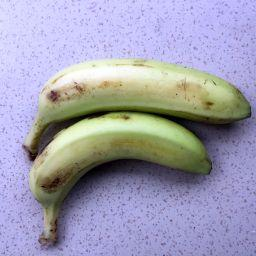Banana Ripe: (29, 59, 256, 256)
